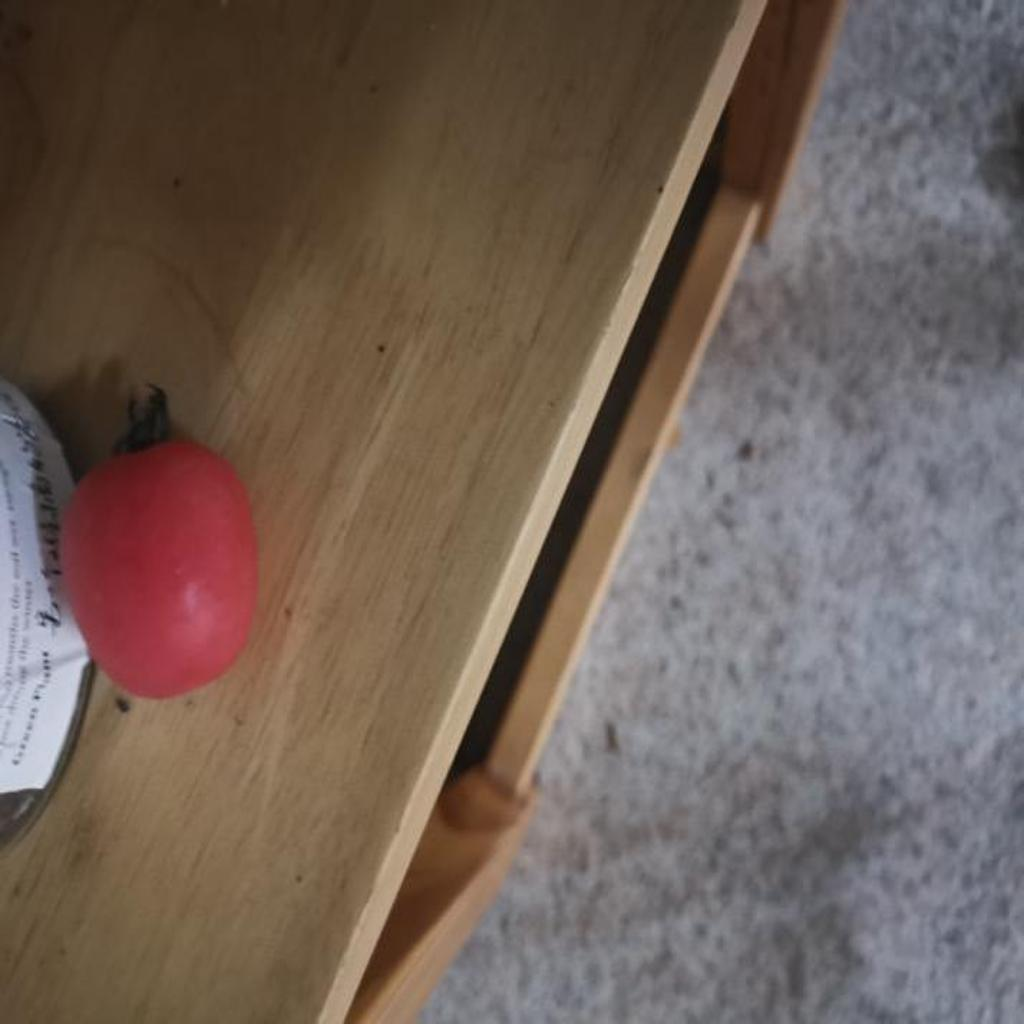tomato: (43, 423, 256, 700)
